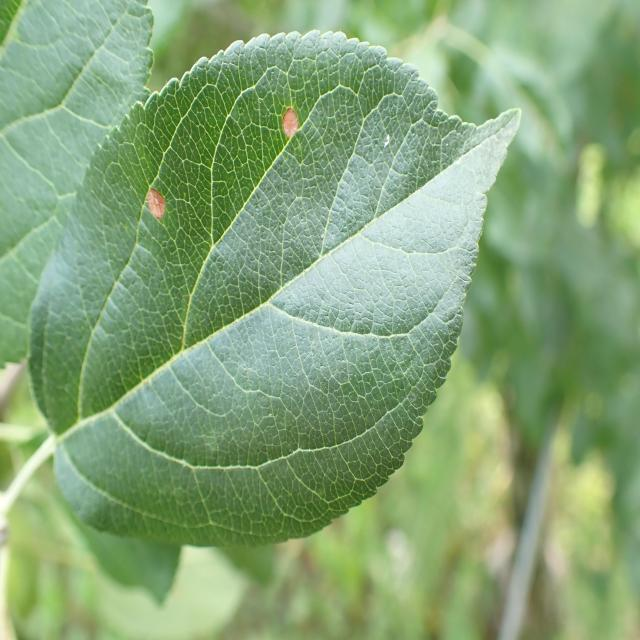Black Rot: (115, 160, 174, 238), (271, 88, 308, 163)
